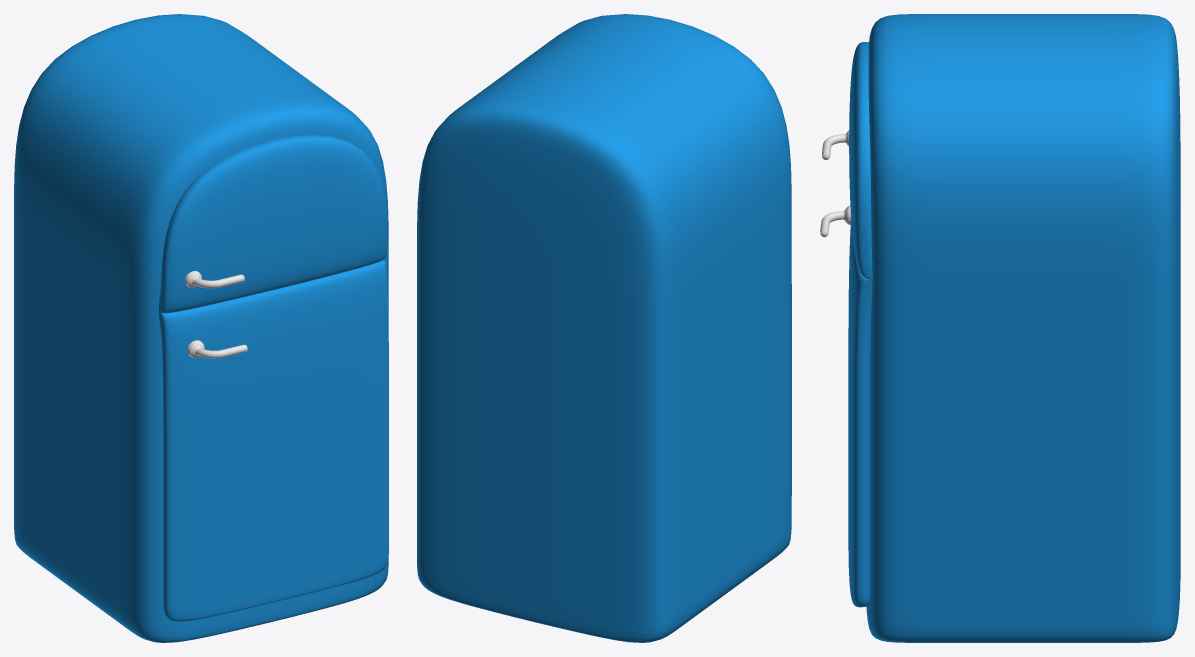
The model's file is Fridge.fbx.
3 views of the same model, side by side, from view 1: azimuth 30°, elevation 25°; view 2: azimuth 150°, elevation 25°; view 3: azimuth 270°, elevation 25° (orthographic). The views are drawn at different scales.
Parts seen in each view (by area): view 1: Cube, Cube.001, Circle, Circle.001; view 2: Cube; view 3: Cube, Cube.001.
Part boxes in pixels (box(x1,y1,x2,y2)): Cube: box(14, 14, 388, 642); Cube.001: box(159, 134, 388, 621); Circle: box(187, 340, 247, 358); Circle.001: box(185, 271, 244, 288); Cube: box(417, 14, 791, 642); Cube: box(866, 14, 1180, 642); Cube.001: box(848, 42, 872, 607).
Bounding box in the file's own units: 200 × 381 × 227.
